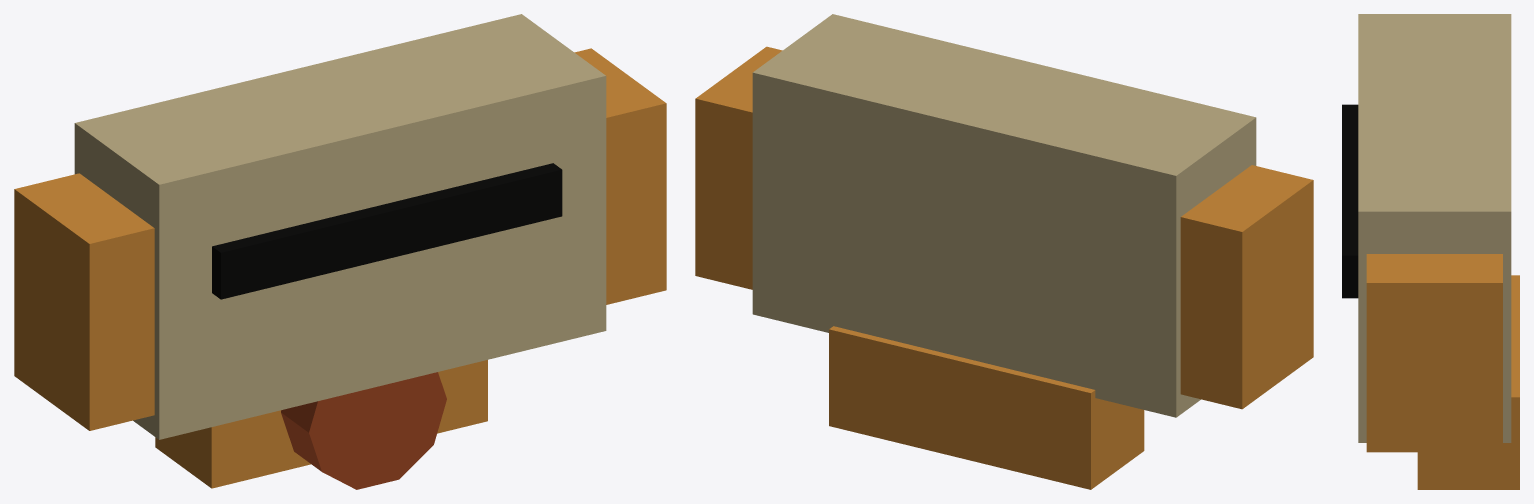
Rendered from PART_BrassMaskVisor_Blockout.obj.
3 views of the same model, side by side, from view 1: azimuth 30°, elevation 25°; view 2: azimuth 150°, elevation 25°; view 3: azimuth 270°, elevation 25° (orthographic). The views are drawn at different scales.
Visible parts, largest first — view 1: standalone_mask_mask_plate, standalone_mask_left_cheek_hinge, standalone_mask_visor_slit, standalone_mask_right_cheek_hinge, standalone_mask_snout_filter, lower_jaw_plate; view 2: standalone_mask_mask_plate, lower_jaw_plate, standalone_mask_left_cheek_hinge, standalone_mask_right_cheek_hinge; view 3: standalone_mask_mask_plate, standalone_mask_right_cheek_hinge, lower_jaw_plate, standalone_mask_visor_slit.
Boxes of the visible parts, <box> form: standalone_mask_mask_plate: <box>74,14,606,439</box>; standalone_mask_left_cheek_hinge: <box>14,173,154,430</box>; standalone_mask_visor_slit: <box>212,163,562,299</box>; standalone_mask_right_cheek_hinge: <box>574,48,666,304</box>; standalone_mask_snout_filter: <box>281,372,446,489</box>; lower_jaw_plate: <box>155,360,487,488</box>; standalone_mask_mask_plate: <box>752,14,1256,417</box>; lower_jaw_plate: <box>829,326,1144,489</box>; standalone_mask_left_cheek_hinge: <box>1180,165,1313,409</box>; standalone_mask_right_cheek_hinge: <box>695,46,782,289</box>; standalone_mask_mask_plate: <box>1358,14,1511,442</box>; standalone_mask_right_cheek_hinge: <box>1366,254,1502,452</box>; lower_jaw_plate: <box>1417,275,1519,489</box>; standalone_mask_visor_slit: <box>1342,104,1358,298</box>.
Bounding box in the file's own units: 0.71 × 0.4208 × 0.209.
